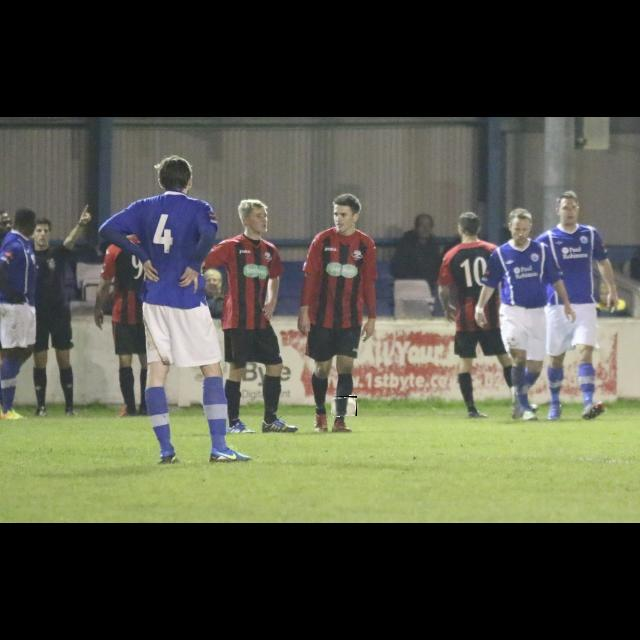Football: (331, 396, 357, 416)
